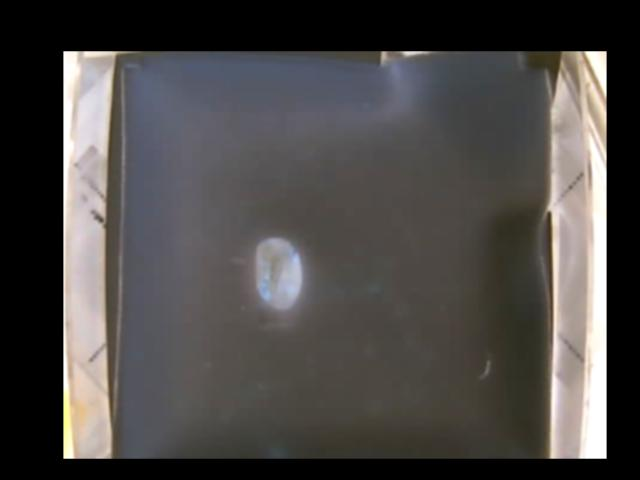Pebble: (255, 238, 301, 310)
